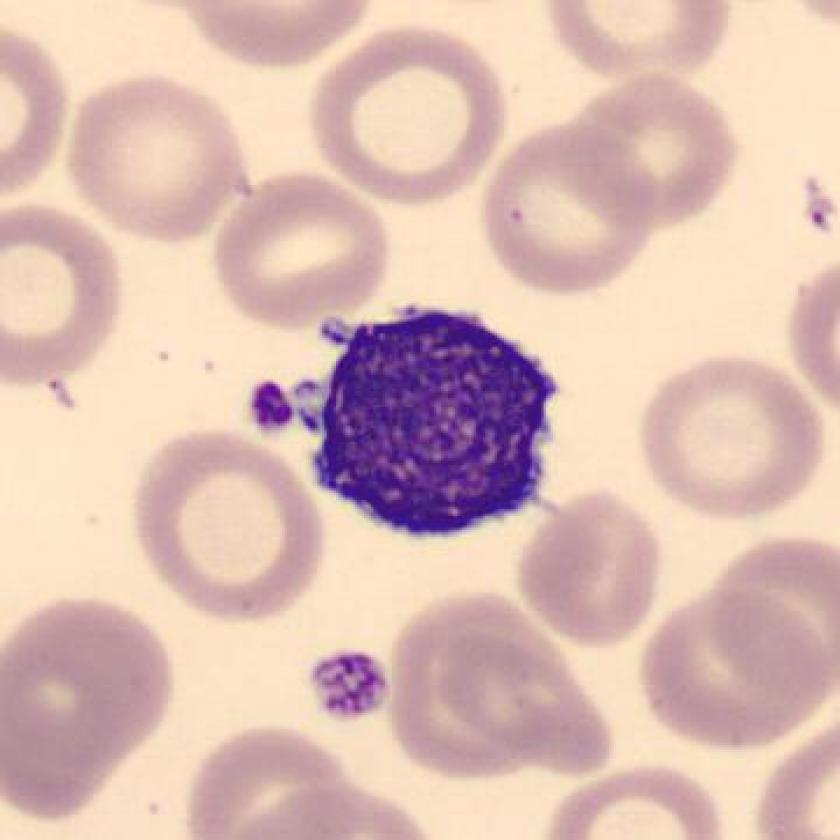lymphocyte: (274, 288, 584, 549)
